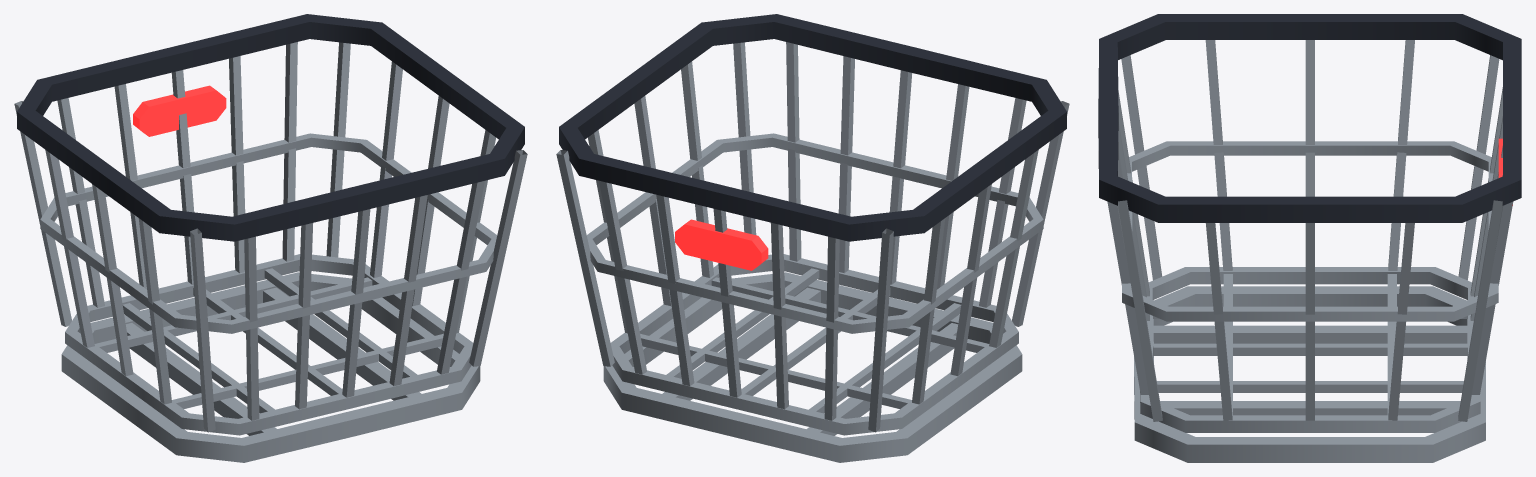
File: gear_rack.glb
3 views of the same model, side by side, from view 1: azimuth 30°, elevation 25°; view 2: azimuth 150°, elevation 25°; view 3: azimuth 270°, elevation 25° (orthographic). The views are drawn at different scales.
Visible parts, largest first — view 1: rack; view 2: rack; view 3: rack.
Boxes of the visible parts, bbox=[...] form: rack: bbox=[14, 14, 527, 462]; rack: bbox=[556, 14, 1069, 462]; rack: bbox=[1098, 14, 1521, 462].
Bounding box in the file's own units: 0.3797 × 0.255 × 0.3563.
